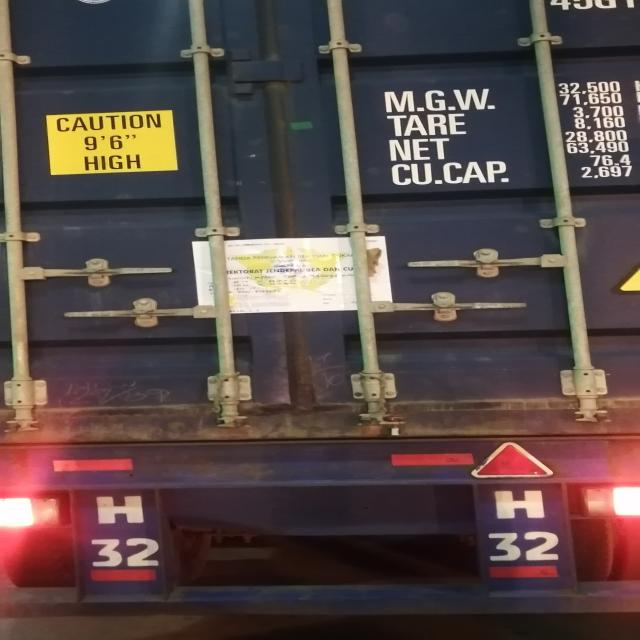seal: (390, 414, 405, 436)
